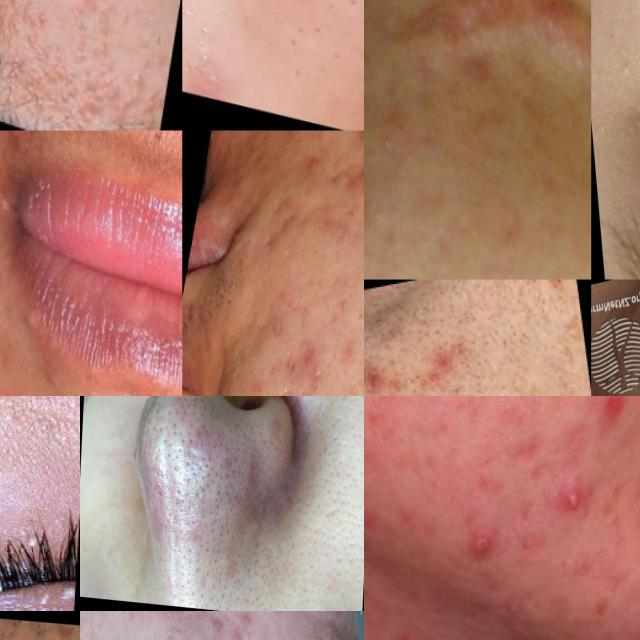acne_scars: (245, 175, 310, 284), (268, 316, 337, 396)
comedone: (317, 187, 364, 251), (0, 2, 25, 88), (250, 548, 284, 605), (188, 427, 223, 468), (157, 506, 191, 548), (217, 519, 253, 558), (167, 554, 198, 599), (168, 396, 207, 427), (163, 466, 193, 506), (248, 433, 278, 472), (191, 505, 215, 552), (161, 426, 188, 467), (199, 556, 226, 596), (212, 478, 240, 516), (138, 456, 161, 501), (241, 481, 265, 516), (192, 467, 215, 502), (223, 438, 246, 472), (142, 421, 164, 455)
flat_wart: (18, 29, 156, 130)
keloid: (406, 0, 591, 167)
milium: (0, 426, 16, 484), (268, 474, 281, 504), (226, 558, 240, 581), (256, 520, 274, 536)
papule: (596, 396, 636, 433), (318, 611, 345, 633)
pustule: (548, 466, 596, 544), (347, 150, 364, 191)
